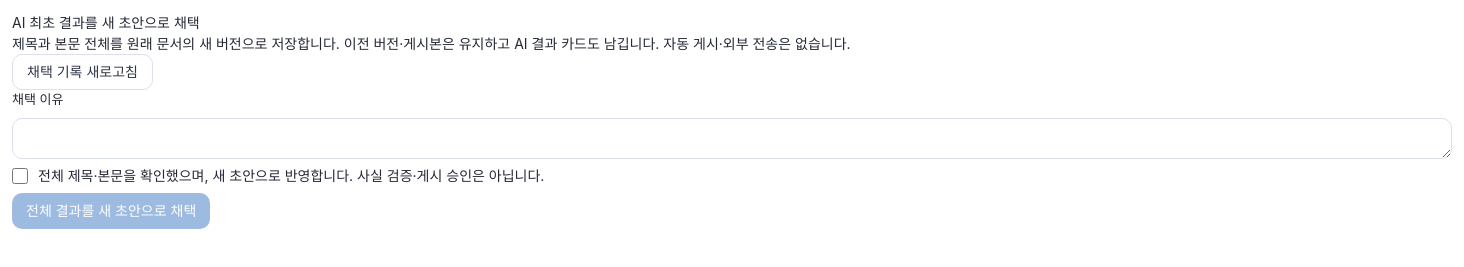
Test: 충돌 시 이유는 보존하고 확인을 해제하며 자동 재시도하지 않는다
Step 1. Type "keep note" into the text box labelled "채택 이유" → (732, 138), box x1=12 y1=118 x2=1452 y2=158
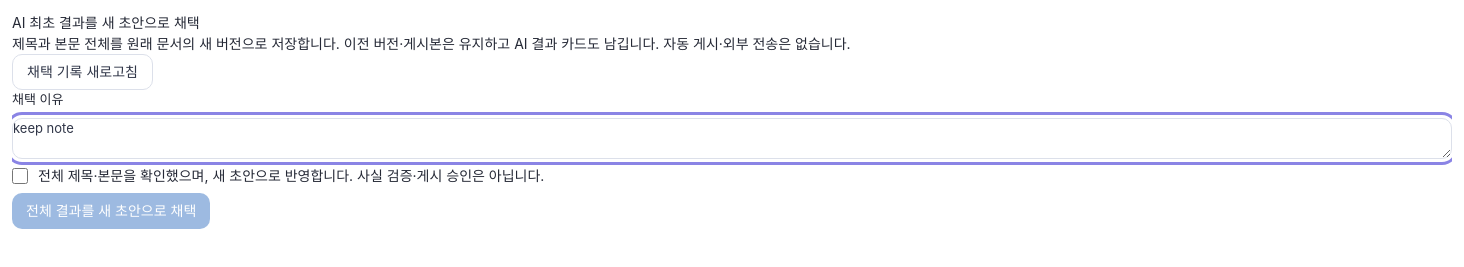
Step 2. Click the checkbox → (20, 176), box x1=12 y1=168 x2=28 y2=184
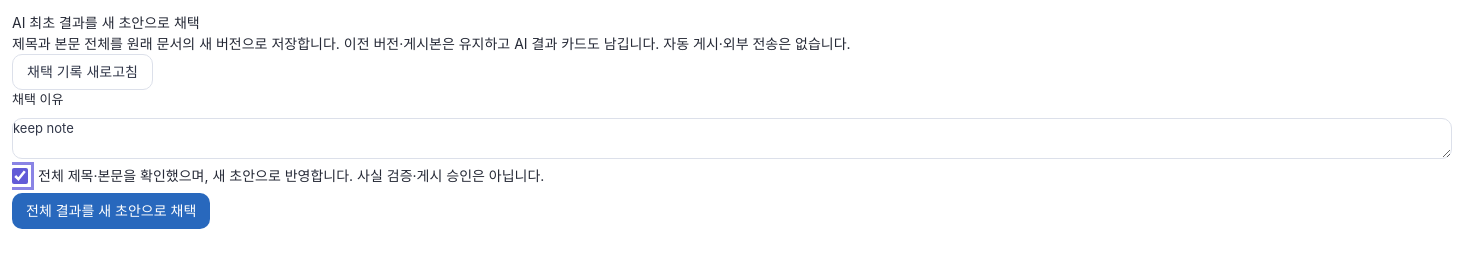
Step 3. Click the button "전체 결과를 새 초안으로 채택" → (111, 211), box x1=12 y1=193 x2=210 y2=229
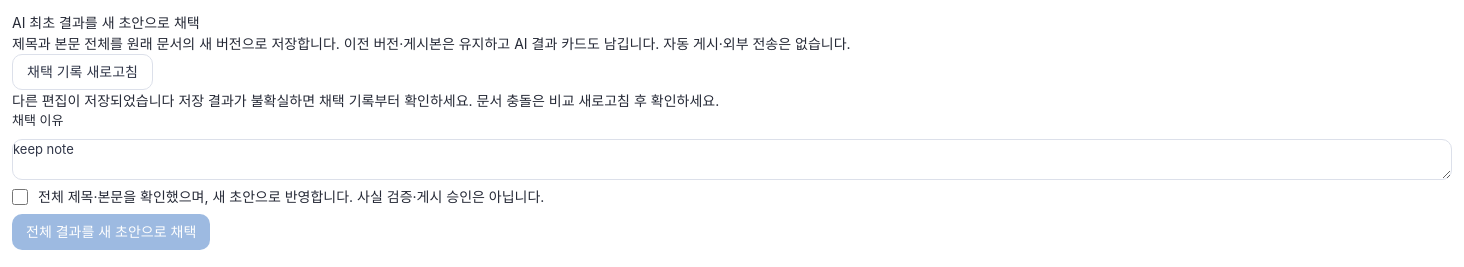
Now the checkbox is not checked, box x1=12 y1=188 x2=28 y2=204
Now the message shows "비교 새로고침", box x1=174 y1=92 x2=719 y2=109
